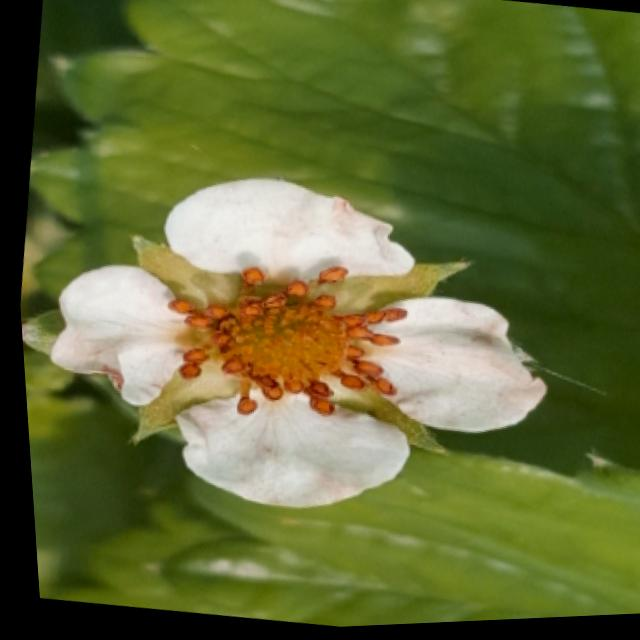Blossom Blight: (160, 261, 407, 427)
